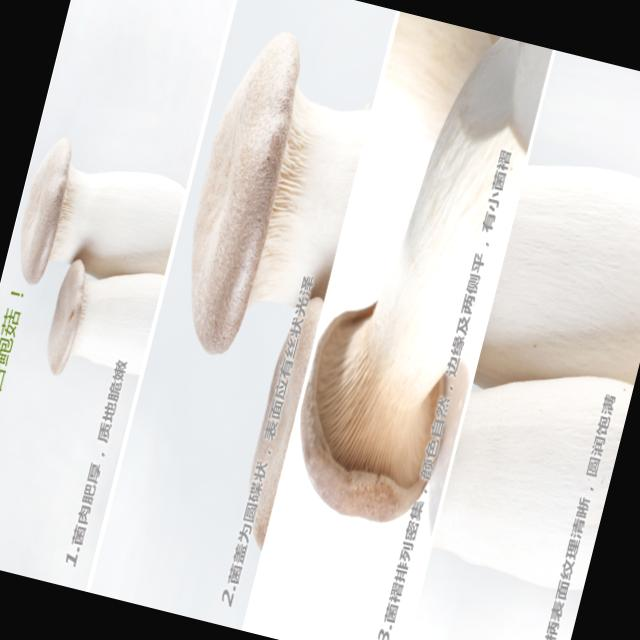Pleurotus eryngii: (284, 11, 552, 532), (170, 21, 386, 369), (0, 130, 189, 388)
